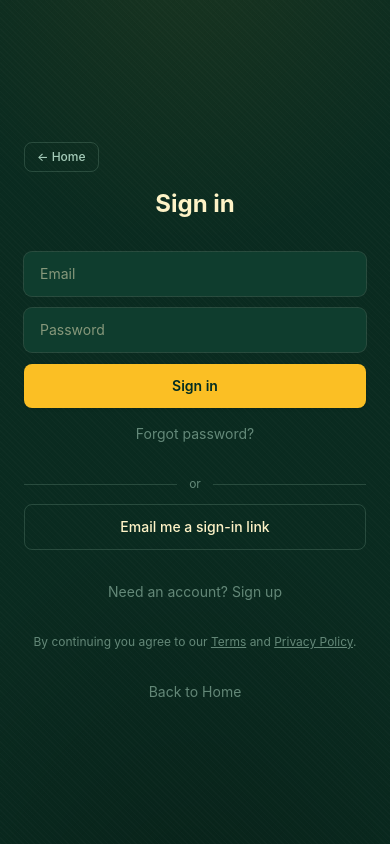
Scenario: heading tracks the active mode › switches from Sign in to Create account and back
Check: the heading "Sign in" is shown, box [155,189,235,218]
Click the button "Need an account? Sign up" at (195,592), box [24,582,366,602]
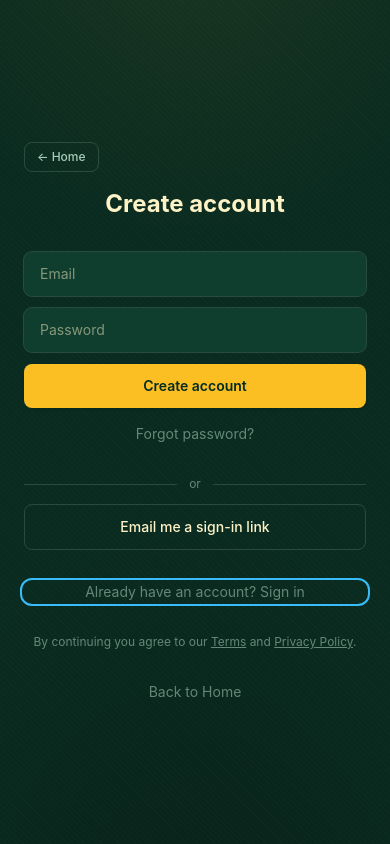
Check: the heading "Create account" is shown, box [105,189,285,218]
Click the button "Already have an account? Sign in" at (195,592), box [24,582,366,602]
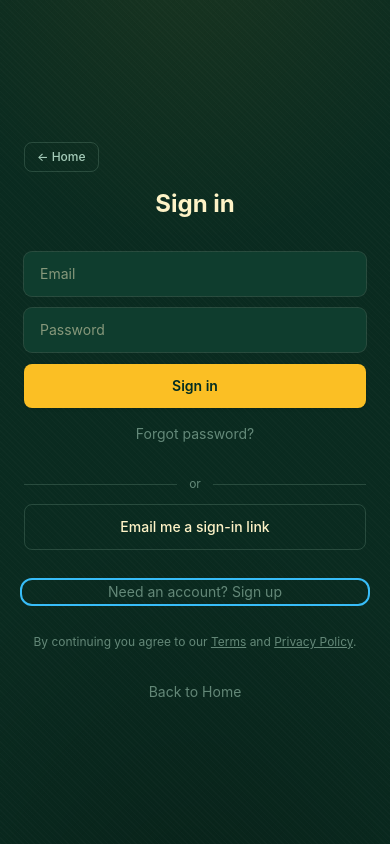
Check: the heading "Sign in" is shown, box [155,189,235,218]
